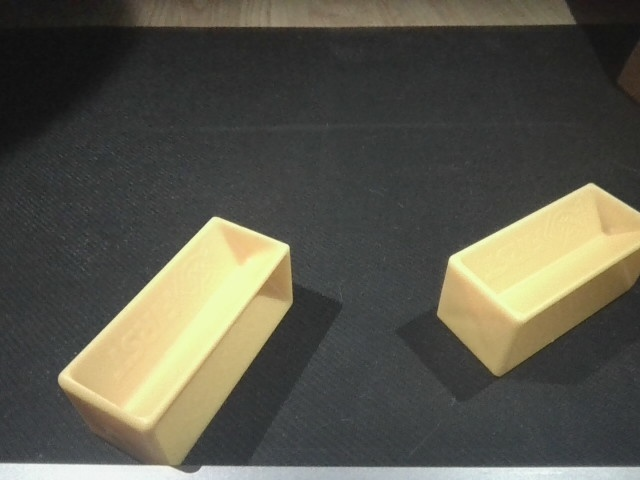YellowSample: (59, 213, 294, 463), (434, 180, 638, 378)
